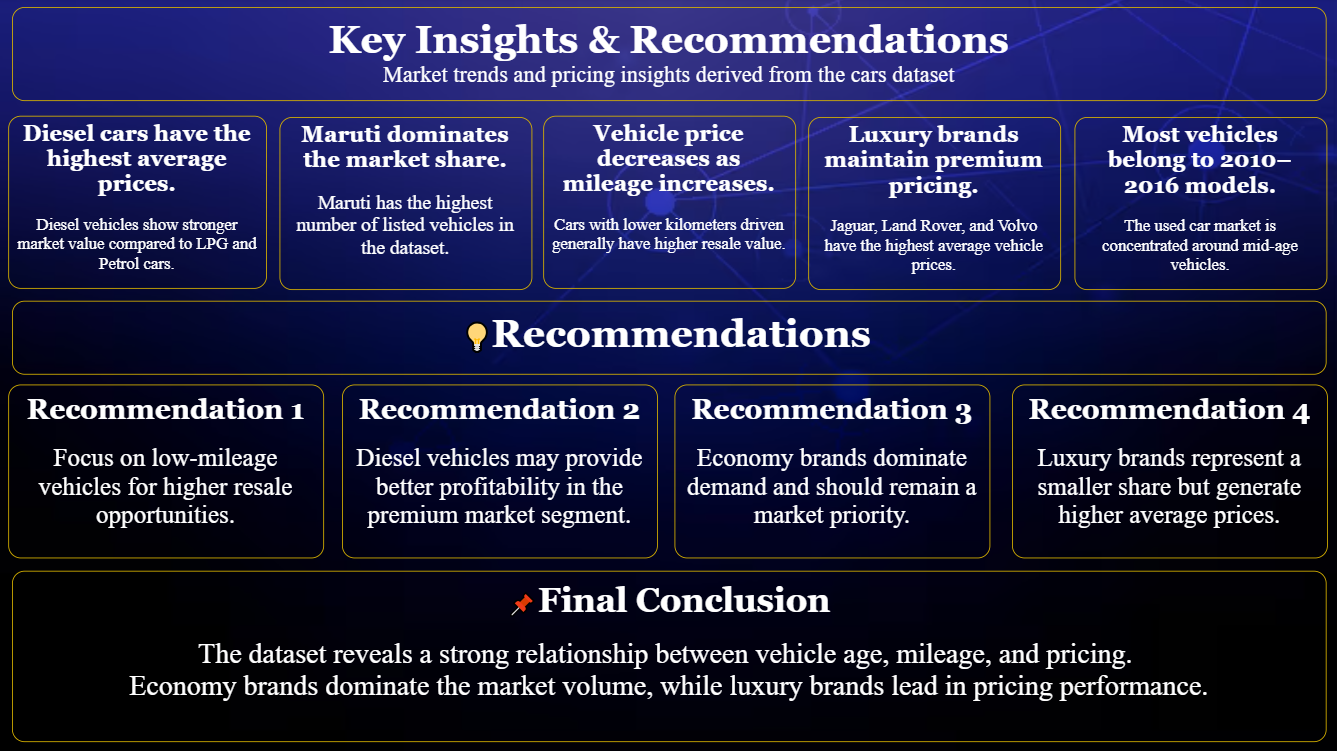

The dashboard page shown, as its layout file describes it:
{"tool":"powerbi","page":{"name":"Story Telling","canvas":[1280,720],"ordinal":2},"visuals":[{"type":"textbox","box":[14.3,9.5,1252.4,89.3],"z":0},{"type":"textbox","box":[10.7,113.1,246.4,165],"z":1000},{"type":"textbox","box":[772.6,114.3,240.5,165],"z":2000},{"type":"textbox","box":[1026.2,114.3,240.5,165],"z":3000},{"type":"textbox","box":[269,114.3,240.5,165],"z":4000},{"type":"textbox","box":[520.2,113.1,240.5,165],"z":5000},{"type":"textbox","box":[14.3,289.3,1252.4,70.2],"z":6000},{"type":"textbox","box":[10.7,369,301,165.5],"z":7000},{"type":"textbox","box":[966.7,369,301.2,165.5],"z":8000},{"type":"textbox","box":[645.2,369,301.2,165.5],"z":9000},{"type":"textbox","box":[328.6,369,301.2,165.5],"z":10000},{"type":"textbox","box":[14.3,546.4,1252.4,163.1],"z":11000}]}

Visuals, with their boxes in screenshot pixels (x1, y1, x2, y2), scaled from the page's 1280x720 canvas onto the 1337x751 screenshot:
textbox: l=15, t=10, r=1323, b=103
textbox: l=11, t=118, r=269, b=290
textbox: l=807, t=119, r=1058, b=291
textbox: l=1072, t=119, r=1323, b=291
textbox: l=281, t=119, r=532, b=291
textbox: l=543, t=118, r=795, b=290
textbox: l=15, t=302, r=1323, b=375
textbox: l=11, t=385, r=326, b=558
textbox: l=1010, t=385, r=1324, b=558
textbox: l=674, t=385, r=989, b=558
textbox: l=343, t=385, r=658, b=558
textbox: l=15, t=570, r=1323, b=740
